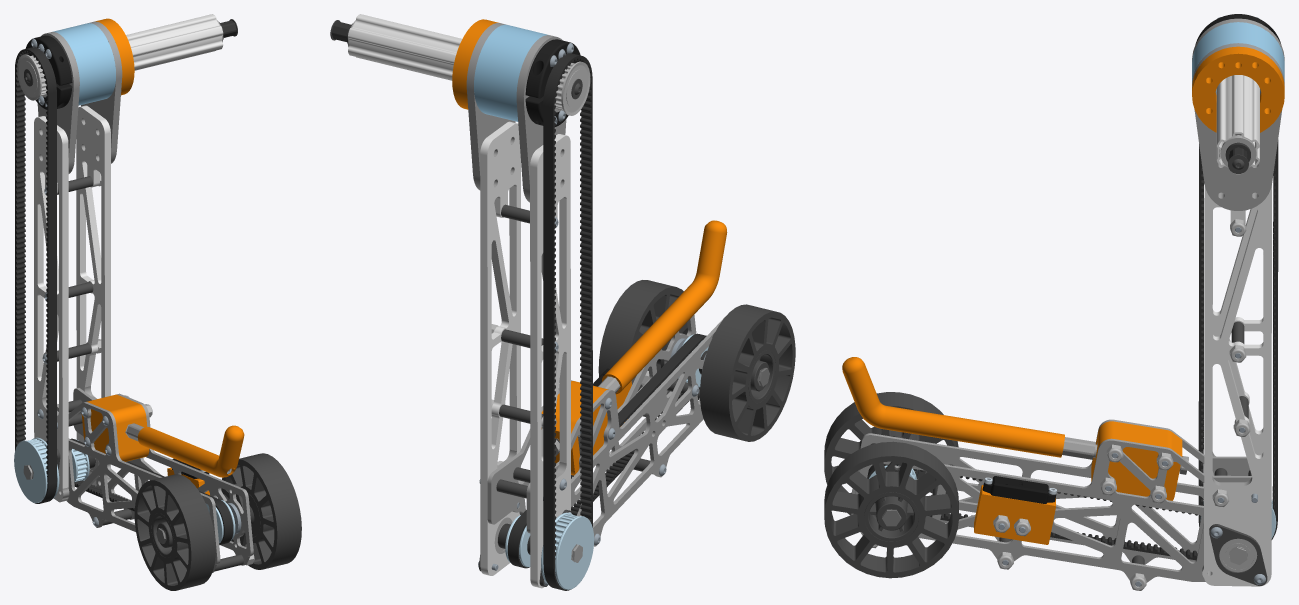
The picture shows the model from 3 angles, left to right: view 1: azimuth 30°, elevation 25°; view 2: azimuth 150°, elevation 25°; view 3: azimuth 270°, elevation 25°; orthographic projection. The views are drawn at different scales.
Visible parts, largest first — view 1: Arm Plate (×2), 4" OD 1/2" Hex Bore Compliant Wheel 35A (am-3480) (×2), 190T 5M 9mm Wide Belt, Good Plate (×2), MAXSpline Shaft 6.906000000000001", PivotMaxSplinePlate (×2), MaxSplineSpacer_3dp, Finger, Pulley (×2), Hex Shaft Block, austinSpacer, 130T 5M 9mm Wide Belt (+2 smaller); view 2: Arm Plate (×2), 4" OD 1/2" Hex Bore Compliant Wheel 35A (am-3480) (×2), 190T 5M 9mm Wide Belt, Good Plate (×2), MAXSpline Shaft 6.906000000000001", Finger, PivotMaxSplinePlate (×2), MaxSplineSpacer_3dp, 130T 5M 9mm Wide Belt, Pulley, Hex Shaft Block, austinSpacer (+2 smaller); view 3: Good Plate (×2), 4" OD 1/2" Hex Bore Compliant Wheel 35A (am-3480) (×2), Arm Plate (×2), Finger, PivotMaxSplinePlate, austinSpacer, 190T 5M 9mm Wide Belt, Hex Shaft Block, MAXSpline Shaft 6.906000000000001", Distance Sensor Block, MaxSplineSpacer_3dp, Case_BottomCover (+4 smaller).
Part boxes in pixels (x1,y1,x2,y2): Arm Plate (×2): (34, 105, 110, 502); 4" OD 1/2" Hex Bore Compliant Wheel 35A (am-3480) (×2): (134, 453, 301, 590); 190T 5M 9mm Wide Belt: (15, 47, 57, 503); Good Plate (×2): (57, 387, 253, 572); MAXSpline Shaft 6.906000000000001": (126, 14, 223, 70); PivotMaxSplinePlate (×2): (37, 21, 122, 173); MaxSplineSpacer_3dp: (52, 23, 115, 105); Finger: (137, 425, 244, 477); Pulley (×2): (14, 437, 89, 503); Hex Shaft Block: (81, 394, 149, 461); austinSpacer: (95, 18, 134, 95); 130T 5M 9mm Wide Belt: (70, 438, 233, 544); Arm Plate (×2): (480, 121, 570, 588); 4" OD 1/2" Hex Bore Compliant Wheel 35A (am-3480) (×2): (598, 280, 795, 441); 190T 5M 9mm Wide Belt: (543, 53, 592, 590); Good Plate (×2): (487, 315, 724, 546); MAXSpline Shaft 6.906000000000001": (348, 14, 462, 80); Finger: (602, 220, 727, 394); PivotMaxSplinePlate (×2): (466, 23, 566, 202); MaxSplineSpacer_3dp: (474, 24, 549, 121); 130T 5M 9mm Wide Belt: (507, 333, 706, 568); Pulley: (541, 512, 594, 589); Hex Shaft Block: (541, 381, 608, 475); austinSpacer: (452, 19, 498, 109); Good Plate (×2): (851, 419, 1251, 582); 4" OD 1/2" Hex Bore Compliant Wheel 35A (am-3480) (×2): (824, 392, 958, 578); Arm Plate (×2): (1202, 185, 1271, 586); Finger: (842, 357, 1064, 457); PivotMaxSplinePlate: (1192, 43, 1284, 210); austinSpacer: (1192, 46, 1284, 132); 190T 5M 9mm Wide Belt: (1198, 140, 1278, 539); Hex Shaft Block: (1091, 421, 1182, 500); MAXSpline Shaft 6.906000000000001": (1216, 75, 1259, 174); Distance Sensor Block: (974, 485, 1055, 544); MaxSplineSpacer_3dp: (1192, 22, 1284, 91); Case_BottomCover: (982, 476, 1056, 503).
Bounding box in the file's own units: 0.2284 × 0.4553 × 0.3468.
